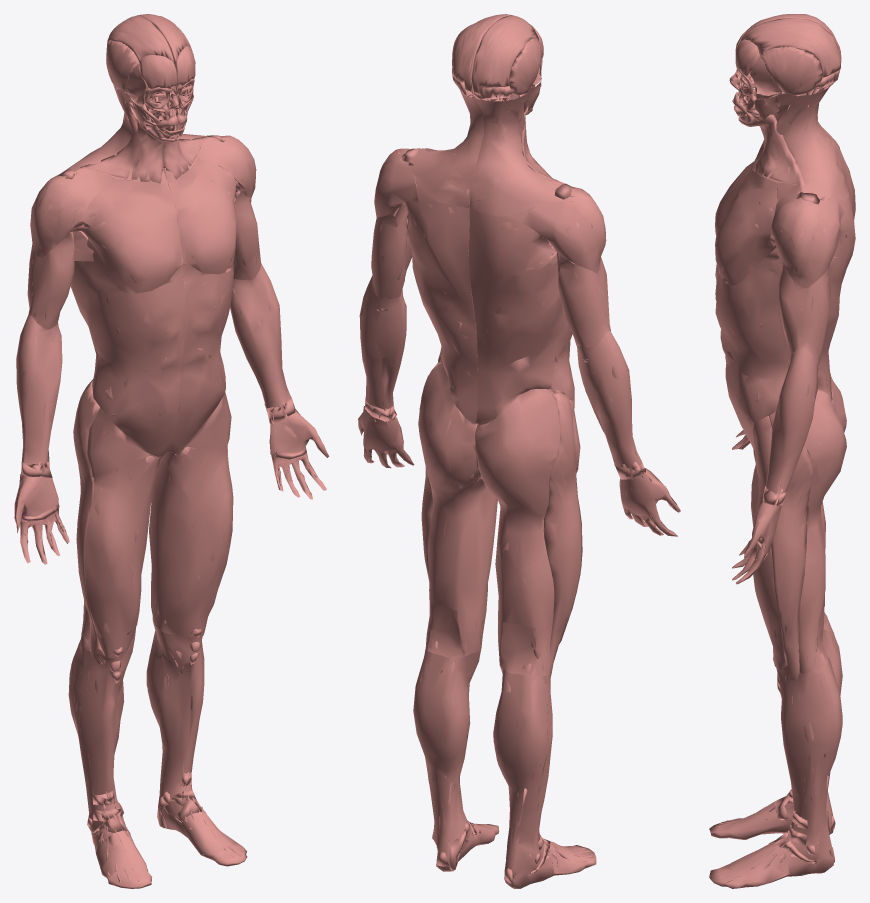
File: muscles.glb
3 renders of one model, left to right at view 1: azimuth 30°, elevation 25°; view 2: azimuth 150°, elevation 25°; view 3: azimuth 270°, elevation 25°, orthographic. The views are drawn at different scales.
Visible parts, largest first — view 1: muscles; view 2: muscles; view 3: muscles.
Boxes of the visible parts, <box> form: muscles: <box>14,14,329,888</box>; muscles: <box>358,14,680,888</box>; muscles: <box>709,14,855,888</box>.
Bounding box in the file's own units: 0.6716 × 1.7 × 0.2694.
